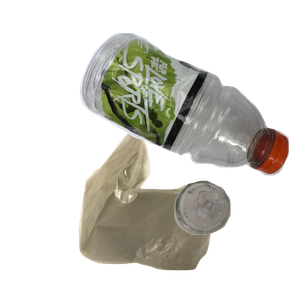glass: (172, 178, 300, 300)
metal: (102, 60, 252, 169)
plastic: (77, 30, 300, 198)
trash: (76, 124, 287, 300)
